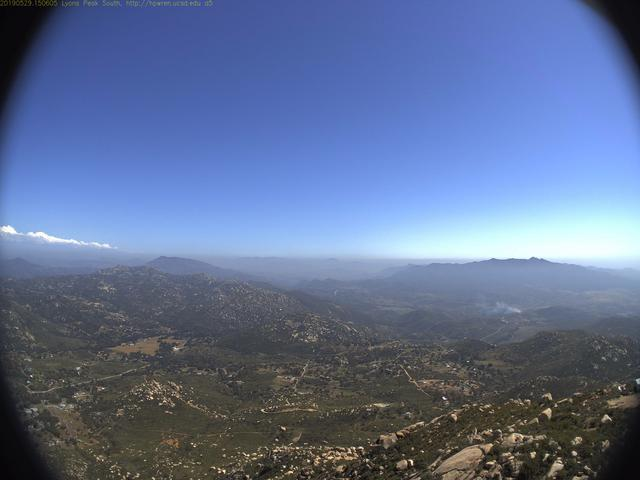smoke: (483, 297, 526, 321)
